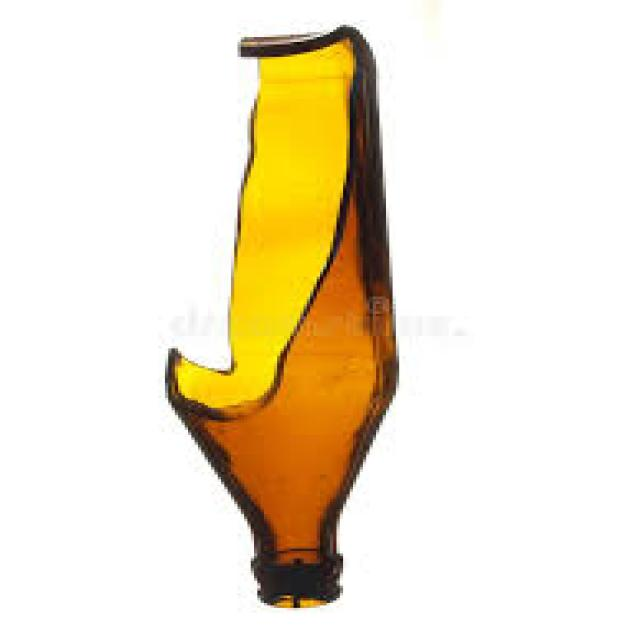glass: (165, 27, 393, 605)
